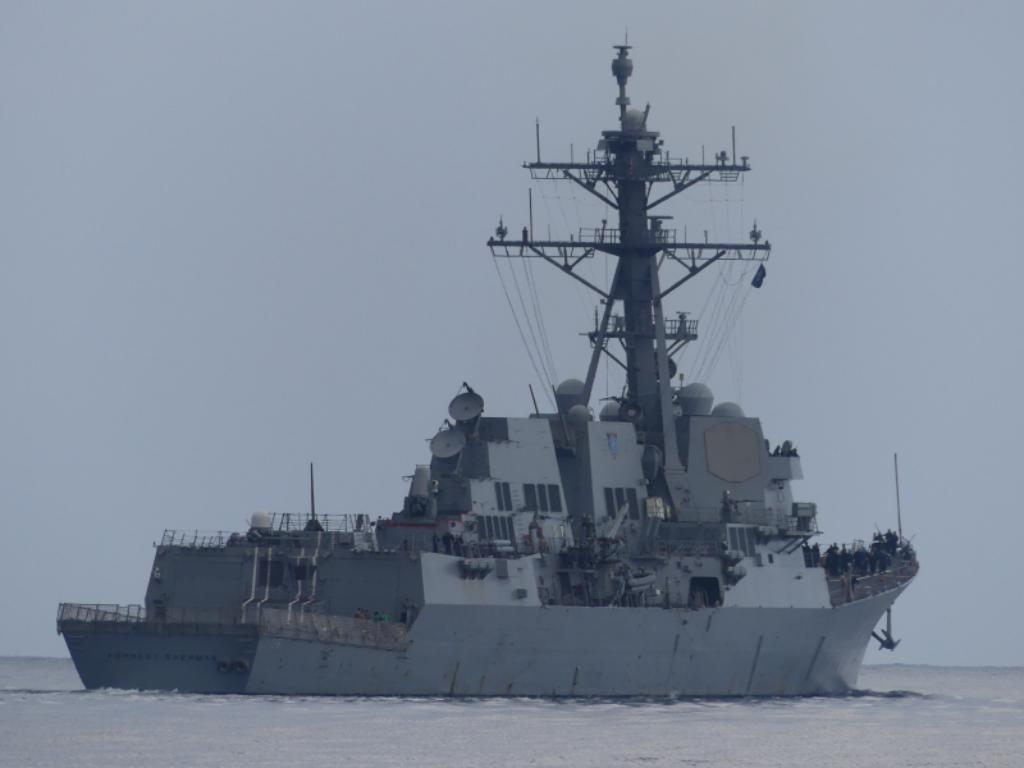Warship: (55, 29, 923, 698)
